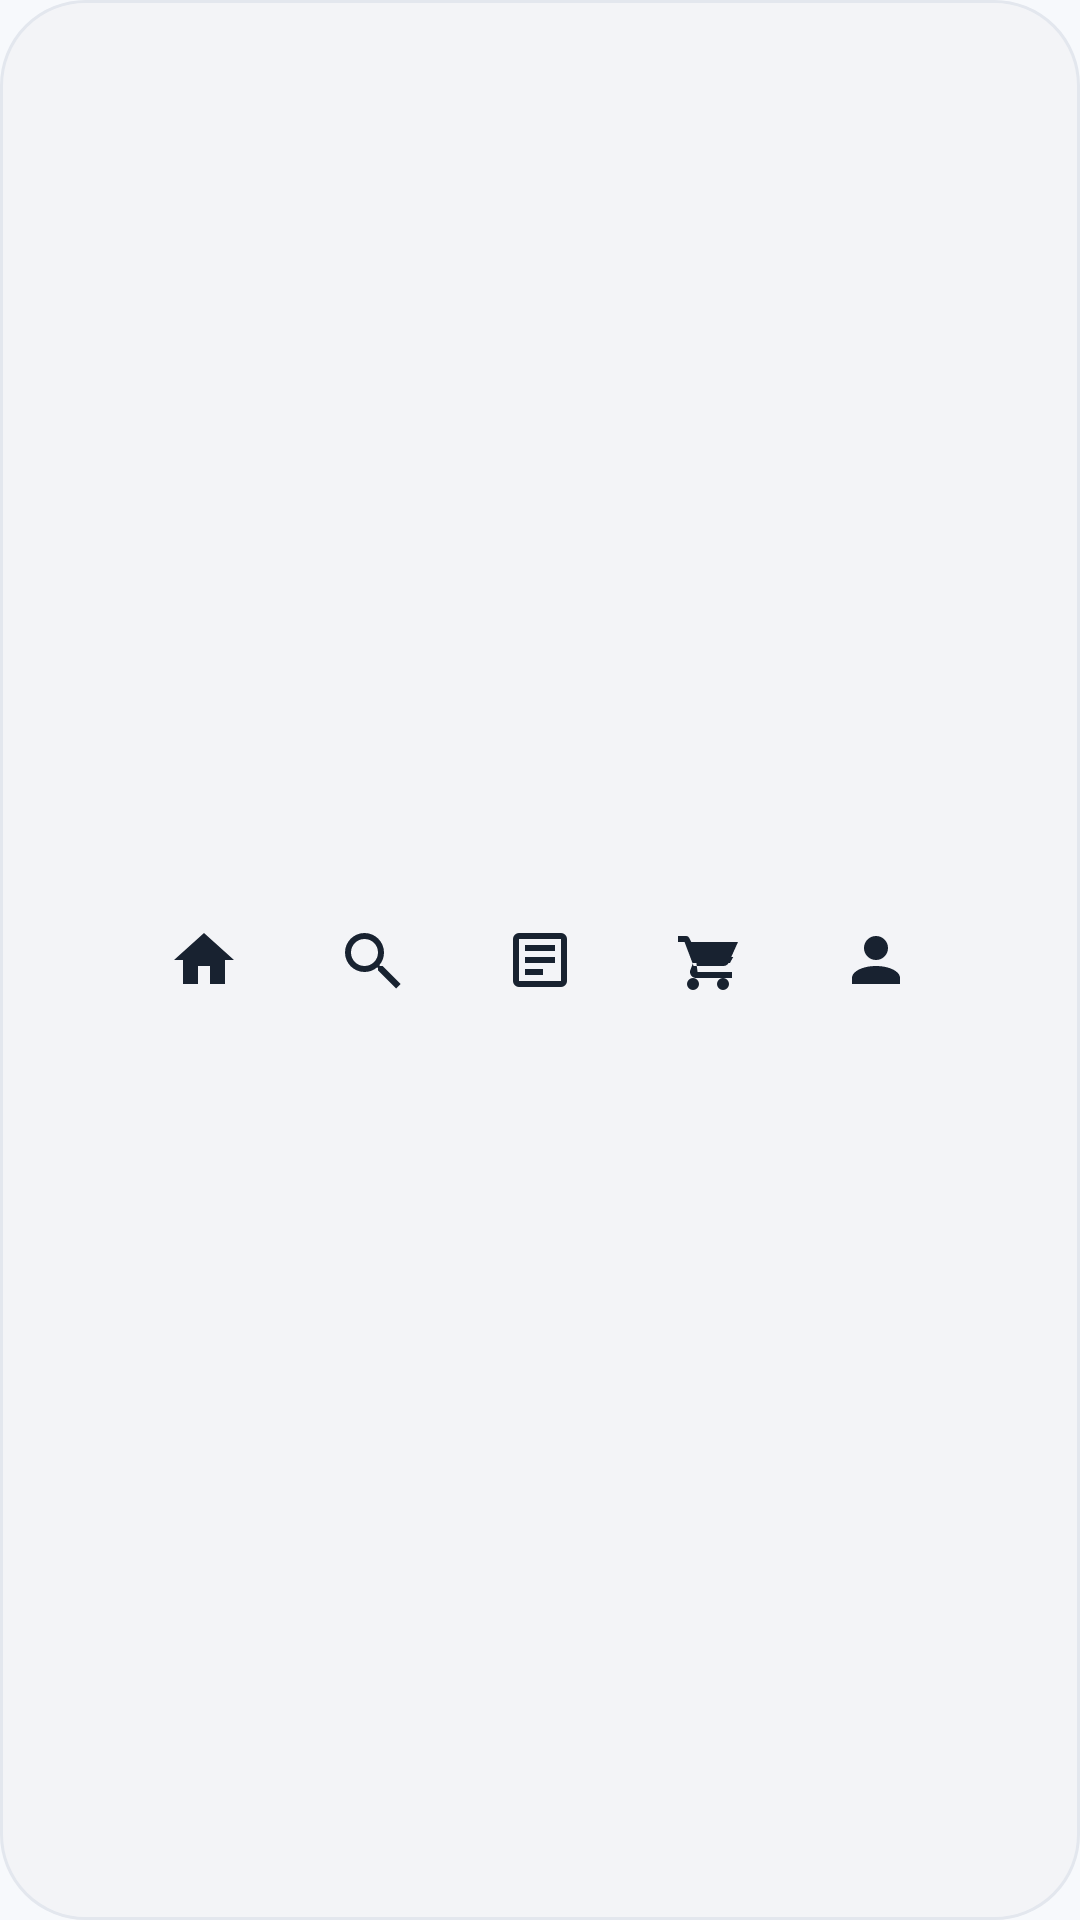

Locate icon controls on the screen. Image size 1080x1920, boxes as (x1, y1, x2, y2).
Cart: (678, 936, 738, 990)
Home: (174, 933, 234, 984)
Orders: (513, 933, 567, 987)
Profile: (852, 936, 900, 984)
Search: (345, 933, 401, 989)
